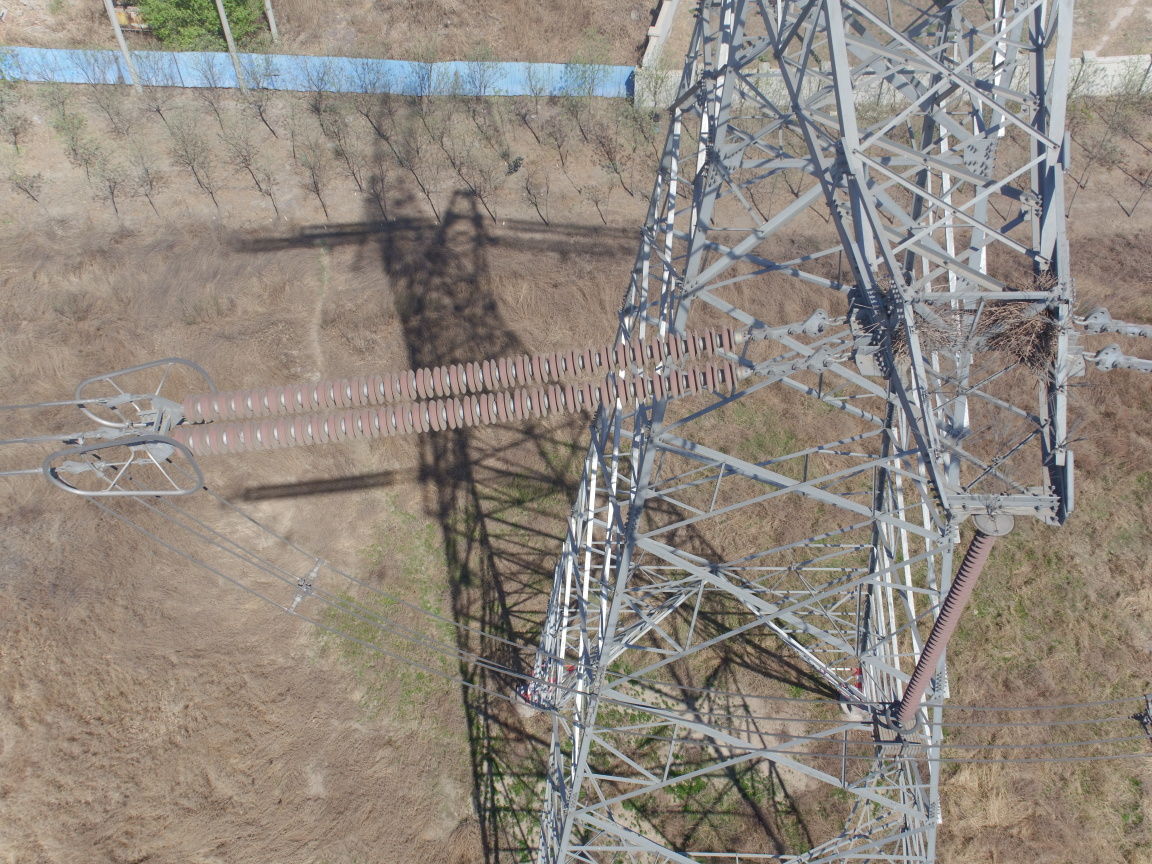insulator: (166, 323, 798, 462)
